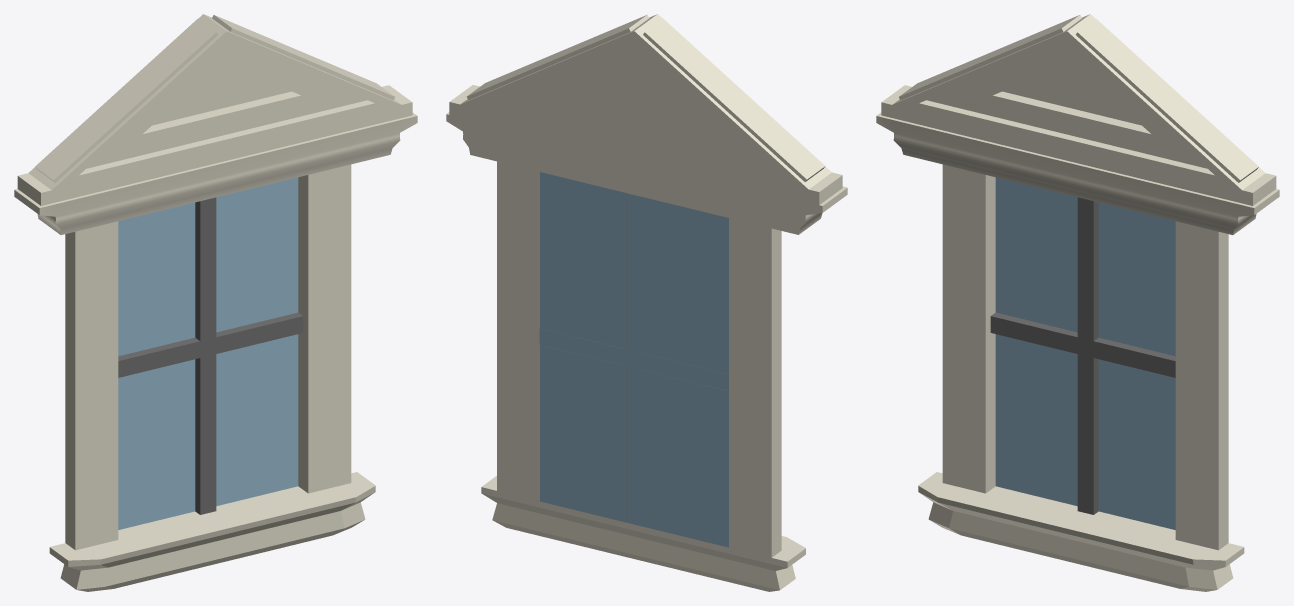
File: WindowFrame1.fbx
3 views of the same model, side by side, from view 1: azimuth 30°, elevation 25°; view 2: azimuth 150°, elevation 25°; view 3: azimuth 330°, elevation 25° (orthographic).
Visible parts, largest first — view 1: window_pane, top_frame, left_frame, right_frame, bottom_frame, top_frame_base, inner_frame; view 2: window_pane, top_frame, left_frame, right_frame, top_frame_base, bottom_frame, inner_frame; view 3: window_pane, top_frame, right_frame, left_frame, bottom_frame, top_frame_base, inner_frame.
Boxes of the visible parts, bbox=[...] form: window_pane: bbox=[118, 177, 298, 529]; top_frame: bbox=[17, 14, 412, 205]; left_frame: bbox=[65, 221, 118, 550]; right_frame: bbox=[298, 164, 351, 493]; bottom_frame: bbox=[49, 472, 375, 591]; top_frame_base: bbox=[14, 112, 417, 234]; inner_frame: bbox=[118, 197, 303, 514]; window_pane: bbox=[540, 172, 728, 547]; top_frame: bbox=[449, 14, 842, 207]; left_frame: bbox=[729, 218, 781, 557]; right_frame: bbox=[497, 161, 539, 501]; top_frame_base: bbox=[446, 112, 847, 234]; bottom_frame: bbox=[481, 476, 805, 591]; inner_frame: bbox=[539, 193, 728, 526]; window_pane: bbox=[995, 177, 1175, 529]; top_frame: bbox=[881, 14, 1276, 205]; right_frame: bbox=[1175, 221, 1228, 550]; left_frame: bbox=[942, 164, 995, 493]; bottom_frame: bbox=[918, 472, 1244, 591]; top_frame_base: bbox=[876, 112, 1279, 234]; inner_frame: bbox=[990, 197, 1175, 514].
Size of the model in its own units: 1.3 by 1.76 by 0.1527.
